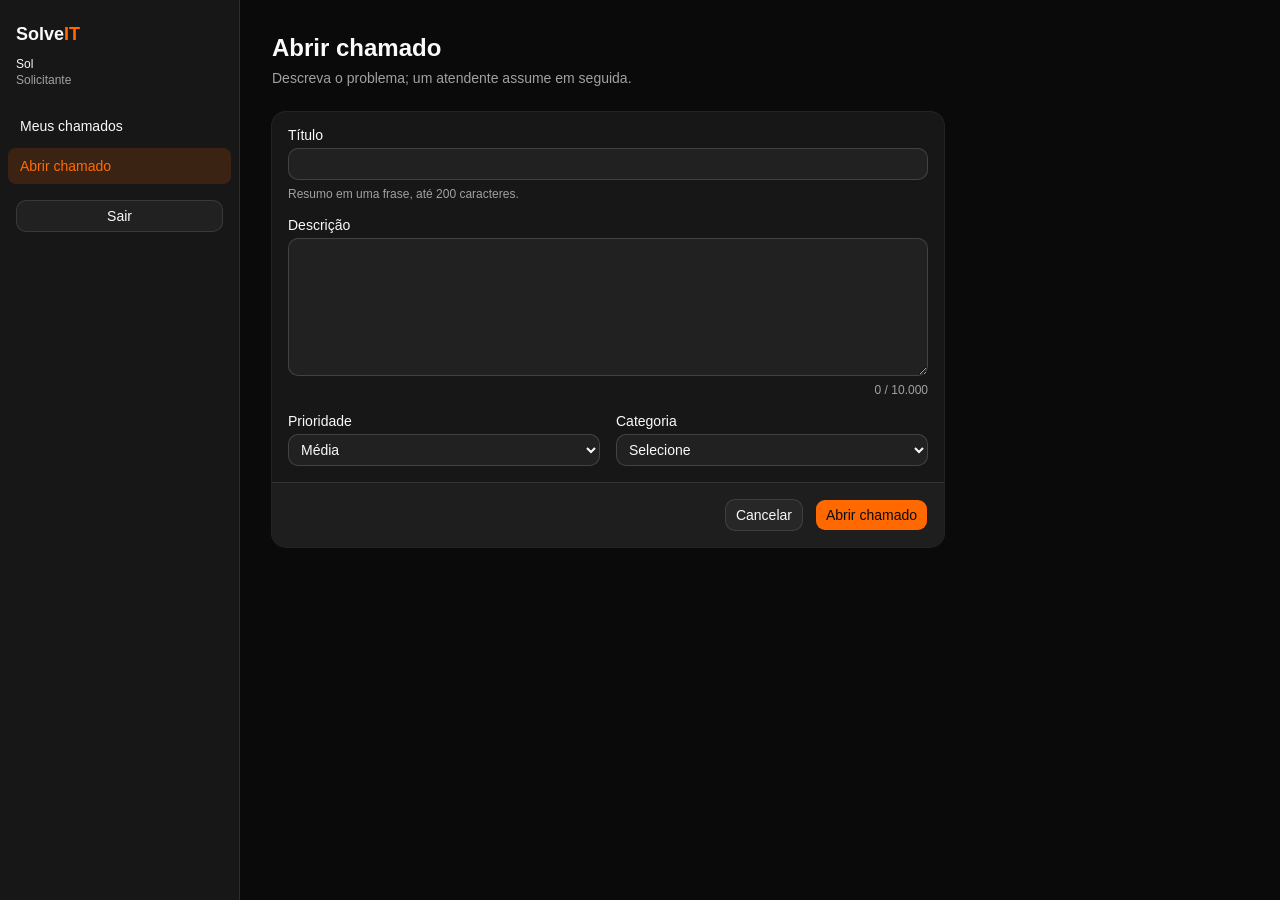
Test: abertura de chamado › mostra no campo o erro de validação devolvido pela API
The width and height of the screenshot is (1280, 900).
Step 1. Type "Teclado" into the field labelled "Título" → (608, 164), box [288,148,928,180]
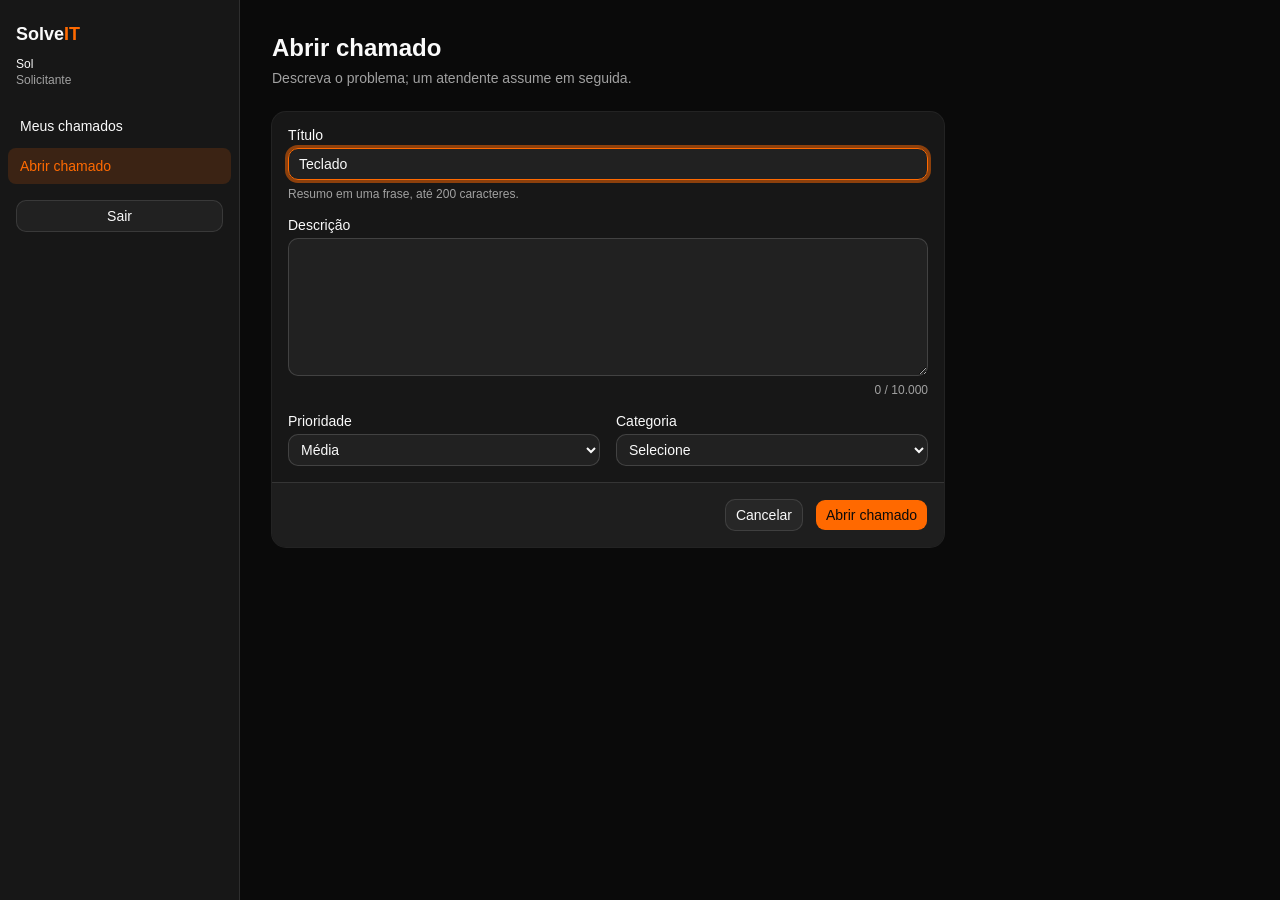
Step 2. Type "Tecla A falha." into the text box labelled "Descrição" → (608, 307), box [288,238,928,376]
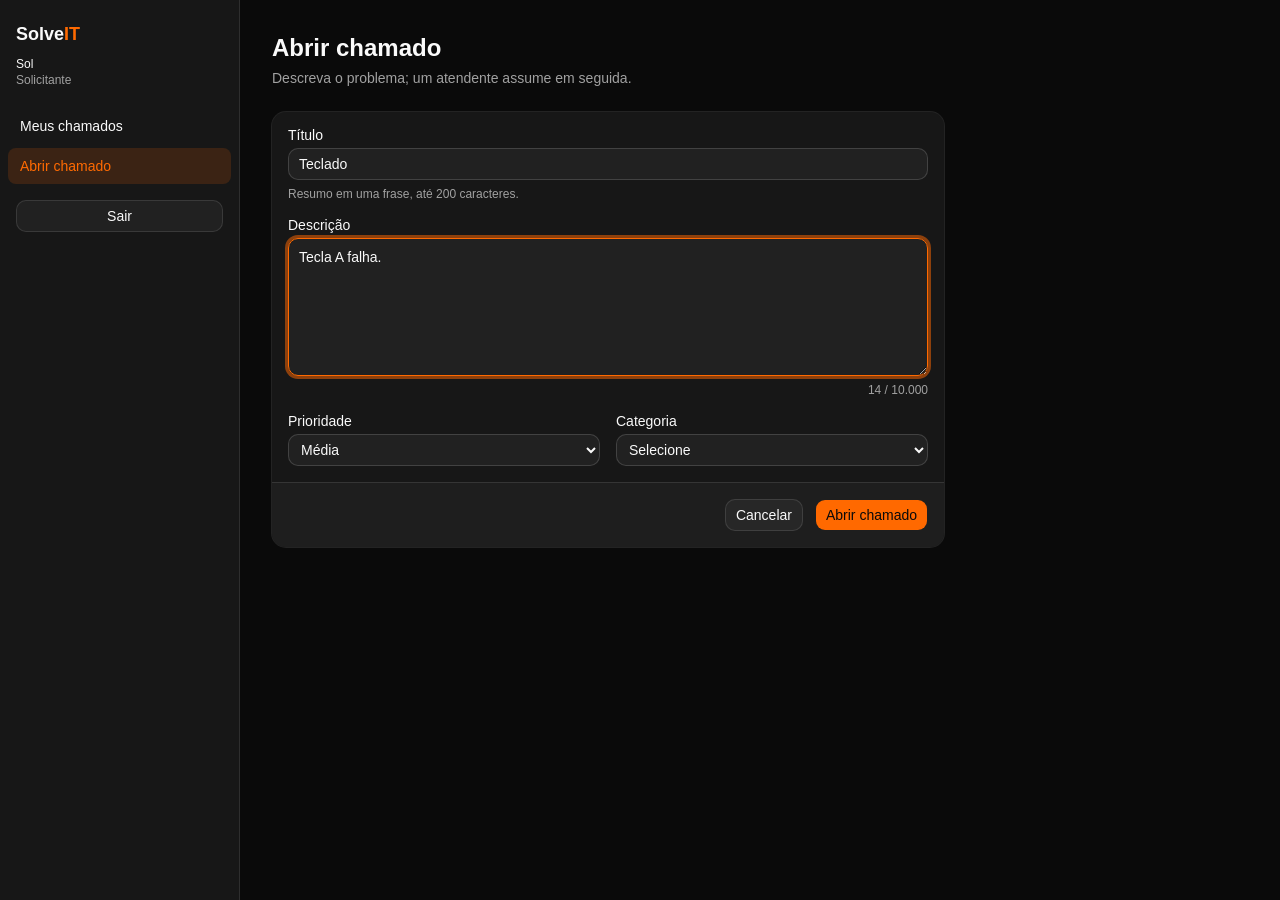
Step 3. Select "Rede" in the dropdown labelled "Categoria" → (772, 450), box [616,434,928,466]
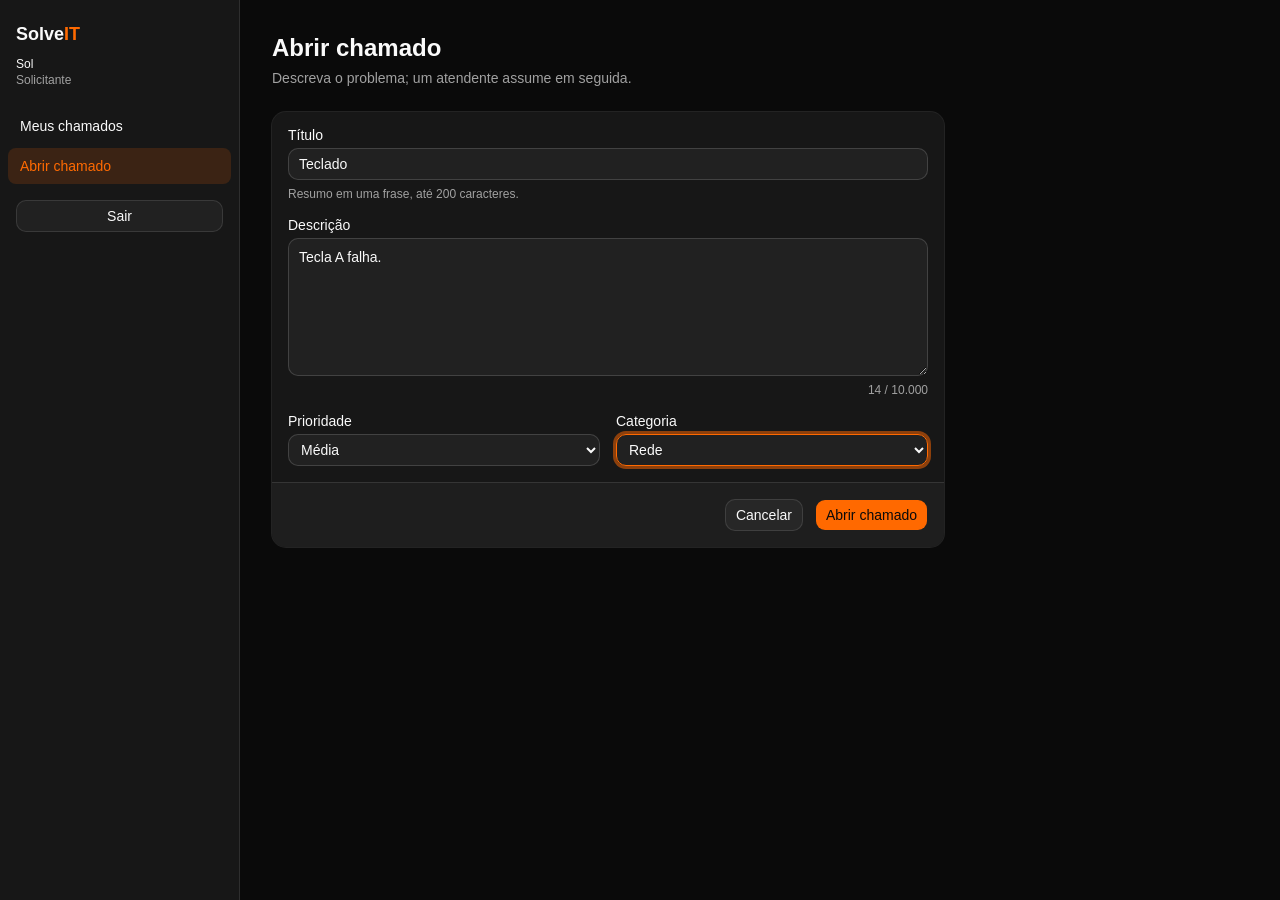
Step 4. Click the button "Abrir chamado" → (872, 515), box [815,499,928,531]
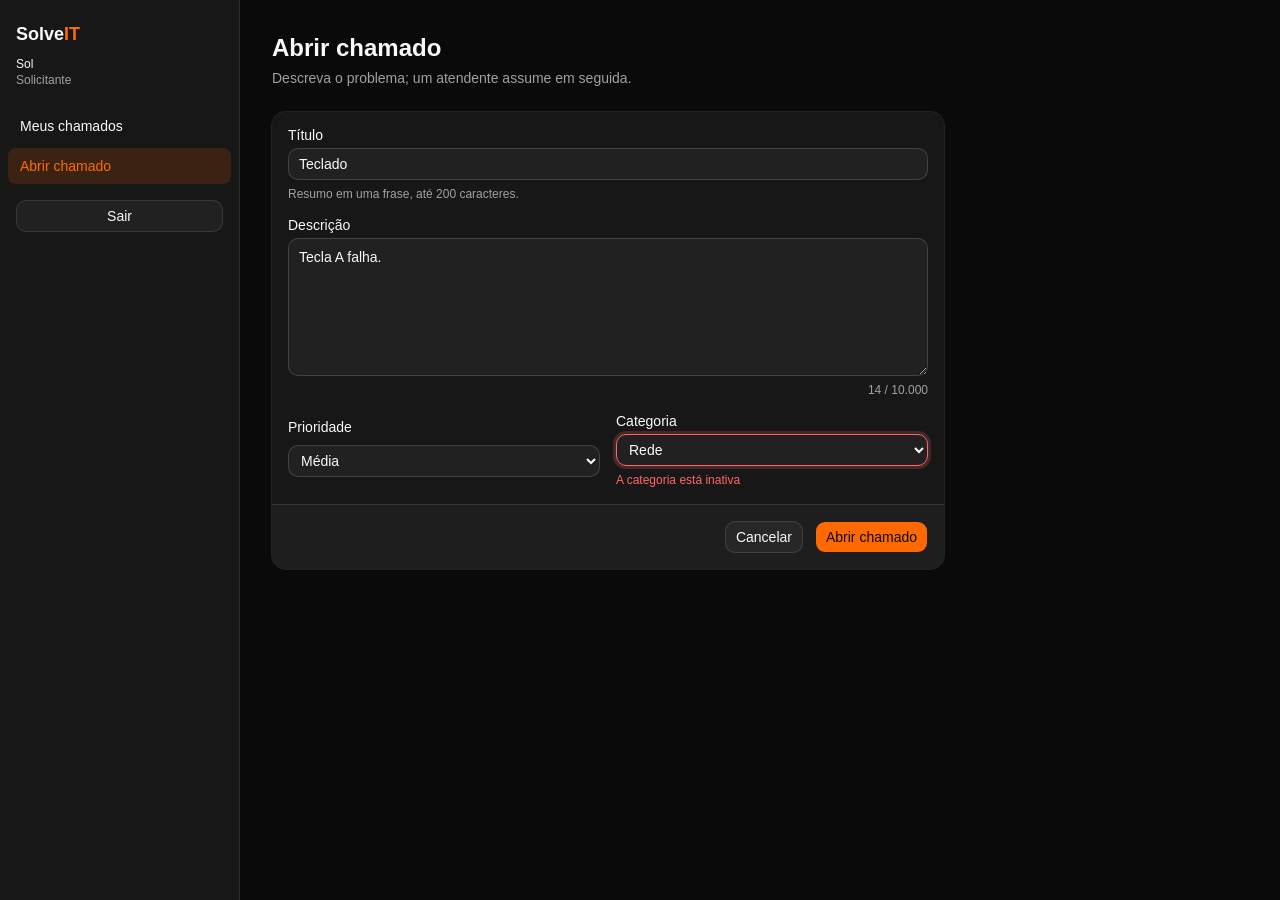
Now the text "A categoria está inativa" is shown, box [616,473,740,487]
